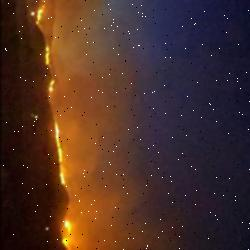fire: (20, 0, 76, 250)
